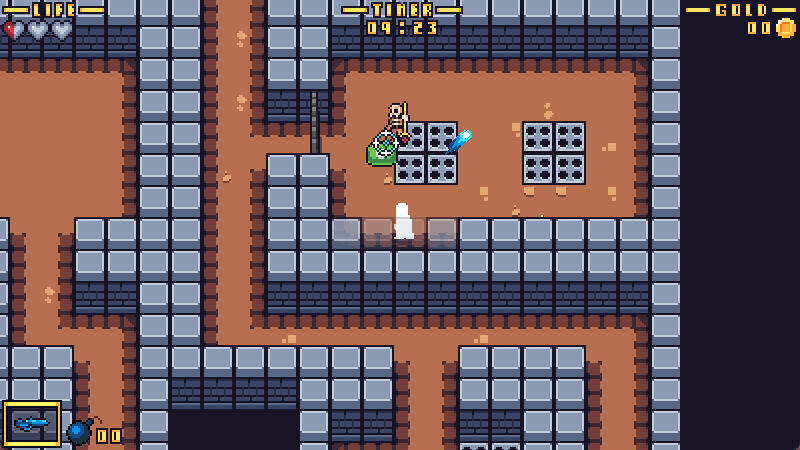aim: (373, 130, 399, 156)
bomb_counter_0: (65, 414, 121, 450)
enemy_skeleton: (387, 101, 410, 144)
enemy_slug_big: (367, 141, 397, 167)
gold_counter: (685, 1, 800, 38)
health-5: (1, 20, 77, 41)
player_hit: (392, 202, 417, 240)
shoot: (445, 130, 472, 154)
timer: (341, 1, 464, 35)
trap_off: (522, 122, 586, 184), (394, 122, 458, 183)
